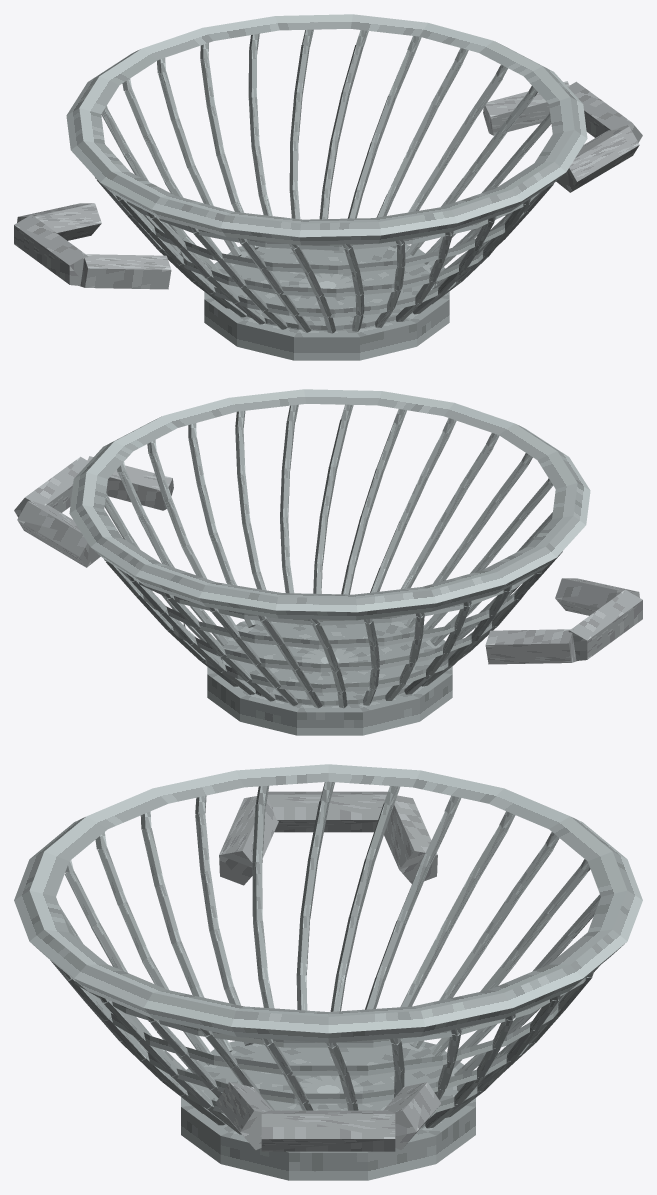
File: colander_steel.glb
3 renders of one model, top to bottom at view 1: azimuth 30°, elevation 25°; view 2: azimuth 150°, elevation 25°; view 3: azimuth 270°, elevation 25°, orthographic. The views are drawn at different scales.
Visible parts, largest first — view 1: block_rolled rim, block_foot ring, block_horizontal mesh strands (×5), block_side handle 2 (×2), block_side handle 1 (×2), block_side handle 0 (×2); view 2: block_rolled rim, block_foot ring, block_horizontal mesh strands (×5), block_side handle 0 (×2), block_side handle 1 (×2), block_side handle 2 (×2); view 3: block_rolled rim, block_foot ring, block_side handle 1 (×2), block_horizontal mesh strands (×3), block_radial mesh strands 3 (×11), block_radial mesh strands 2 (×10), block_radial mesh strands 1 (×8), block_side handle 0 (×2), block_side handle 2 (×2).
Part boxes in pixels (x1,y1,x2,y2): block_rolled rim: [66, 14, 587, 245]; block_foot ring: [204, 245, 449, 360]; block_horizontal mesh strands (×5): [126, 193, 539, 331]; block_side handle 2 (×2): [80, 126, 639, 289]; block_side handle 1 (×2): [14, 81, 642, 285]; block_side handle 0 (×2): [17, 81, 569, 240]; block_rolled rim: [69, 389, 590, 620]; block_foot ring: [207, 619, 452, 735]; block_horizontal mesh strands (×5): [117, 568, 534, 706]; block_side handle 0 (×2): [17, 501, 576, 664]; block_side handle 1 (×2): [14, 456, 642, 660]; block_side handle 2 (×2): [87, 456, 639, 615]; block_rolled rim: [14, 764, 642, 1042]; block_foot ring: [181, 1041, 475, 1180]; block_side handle 1 (×2): [261, 791, 395, 1151]; block_horizontal mesh strands (×3): [74, 978, 585, 1103]; block_radial mesh strands 3 (×11): [64, 800, 587, 926]; block_radial mesh strands 2 (×10): [118, 857, 551, 963]; block_radial mesh strands 1 (×8): [172, 916, 486, 997]; block_side handle 0 (×2): [383, 795, 441, 1149]; block_side handle 2 (×2): [215, 796, 278, 1149].
Bounding box in the file's own units: 0.1492 × 0.0472 × 0.1181.
1 material, 1 textured.
